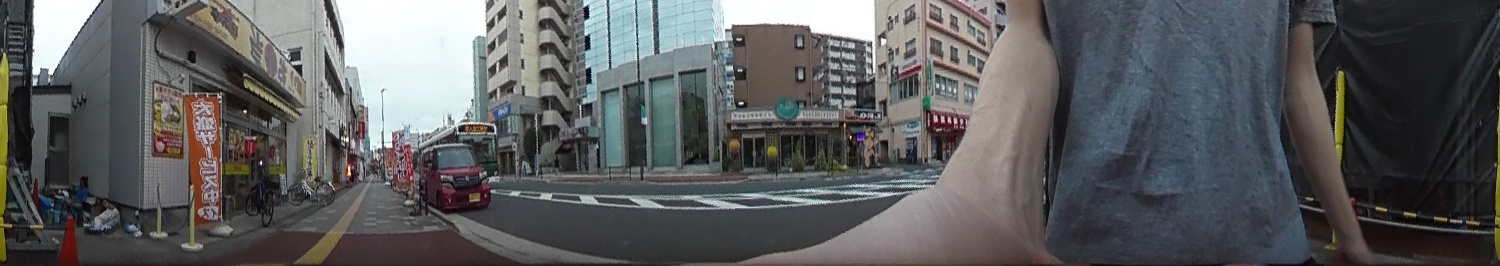difficult_person: (65, 173, 90, 217)
